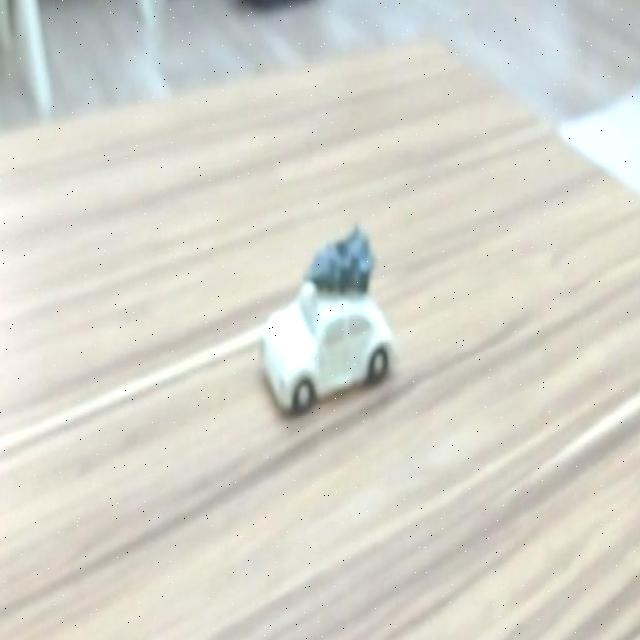car: (259, 290, 391, 399)
